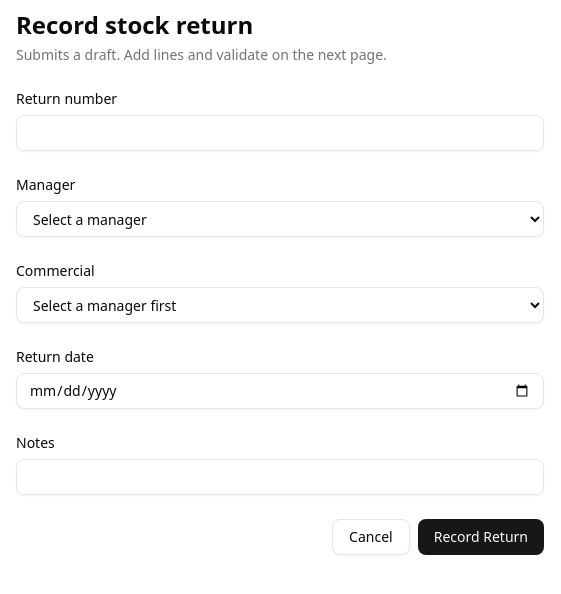
Scenario: failure preserves entered values › maps a field-level 422 (e.g. a duplicate return number) to its own field
Type "RET-900" into the field labelled "Return number". click: (280, 133)
box: x1=16 y1=115 x2=544 y2=151
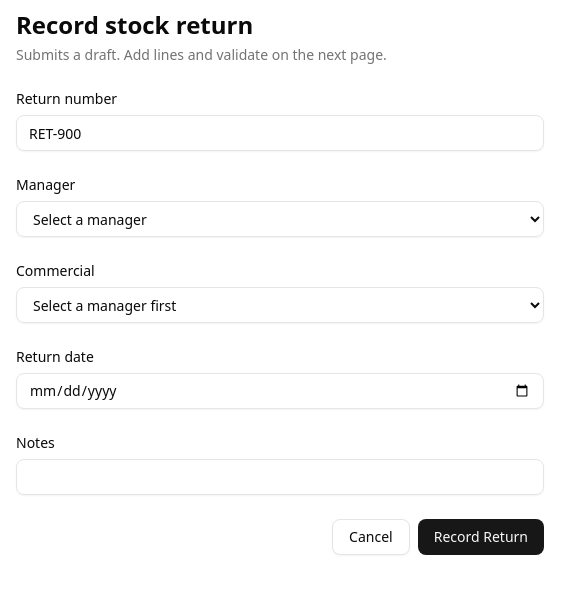
Select "Youssef Bennani" in the dropdown labelled "Manager". click: (280, 219)
box: x1=16 y1=201 x2=544 y2=237
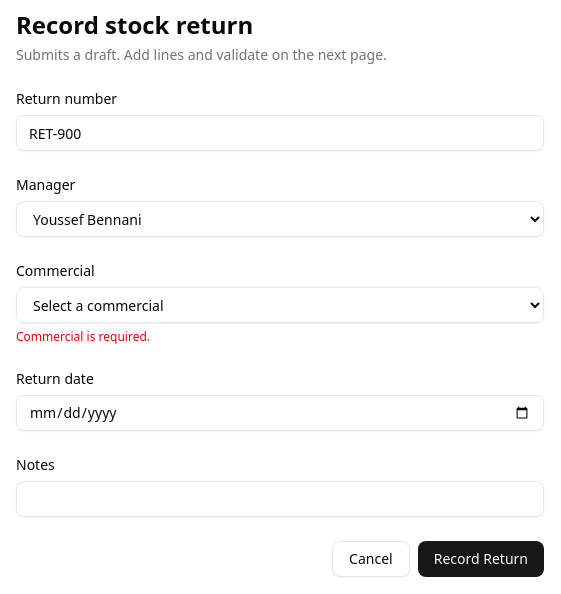
Select "Sara Alaoui" in the dropdown labelled "Commercial". click: (280, 305)
box: x1=16 y1=287 x2=544 y2=323
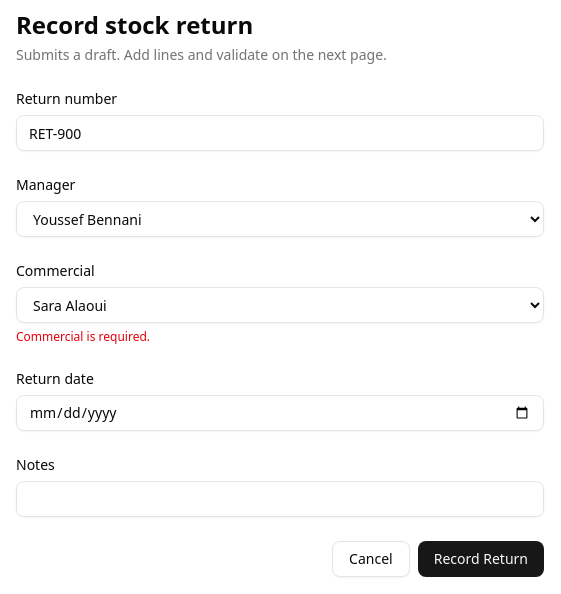
Click the button "Record Return". click: click(481, 559)
box: x1=418 y1=541 x2=544 y2=577
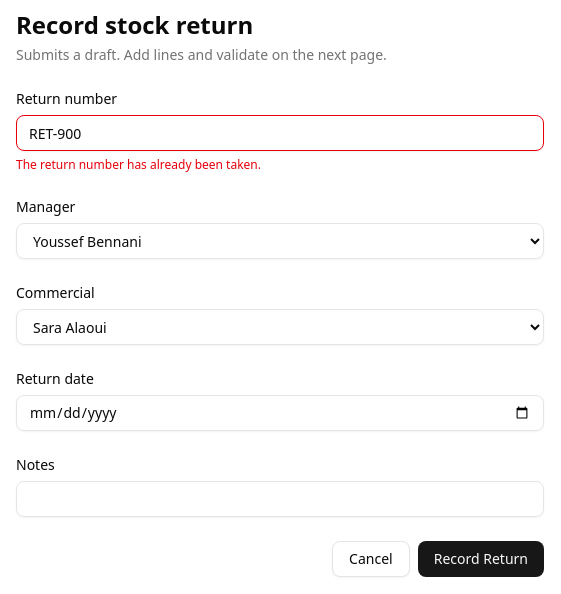
Check: the text "The return number has already been taken." is shown, box x1=16 y1=156 x2=261 y2=173
